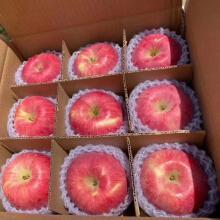apple: (136, 146, 208, 216), (65, 150, 133, 216), (128, 80, 197, 131), (1, 150, 50, 212), (66, 89, 123, 134), (131, 33, 181, 70), (10, 96, 55, 137), (71, 42, 118, 77), (19, 53, 62, 85)
